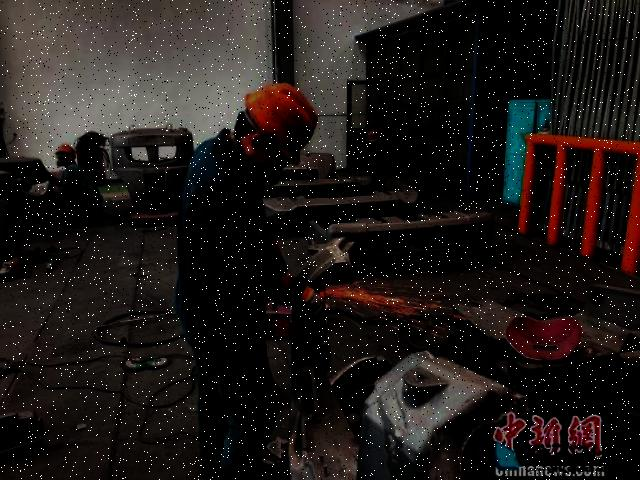Helmet: (240, 78, 320, 171), (51, 140, 78, 160)
